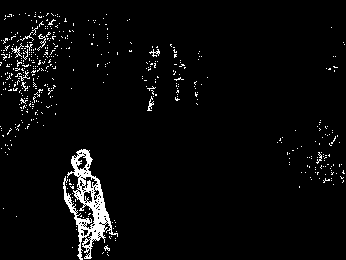person: (63, 148, 118, 260), (144, 61, 160, 112), (173, 61, 186, 101)
